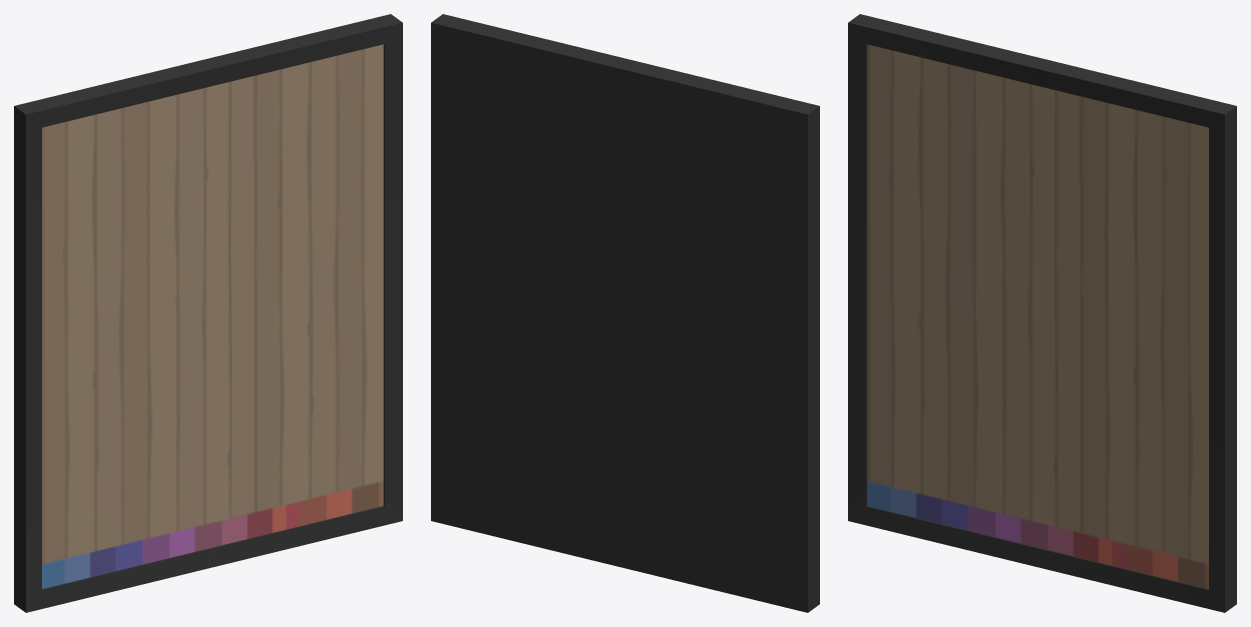
Rendered from Poster_tutL.fbx.
3 renders of one model, left to right at view 1: azimuth 30°, elevation 25°; view 2: azimuth 150°, elevation 25°; view 3: azimuth 330°, elevation 25°, orthographic.
Parts seen in each view (by area): view 1: Poster_tutL; view 2: Poster_tutL; view 3: Poster_tutL.
Boxes of the visible parts, x1,y1,x2,y2 form: Poster_tutL: (14, 14, 402, 612); Poster_tutL: (431, 14, 819, 612); Poster_tutL: (848, 14, 1236, 612).
Size of the model in its own units: 1.1 by 1.39 by 0.06.
